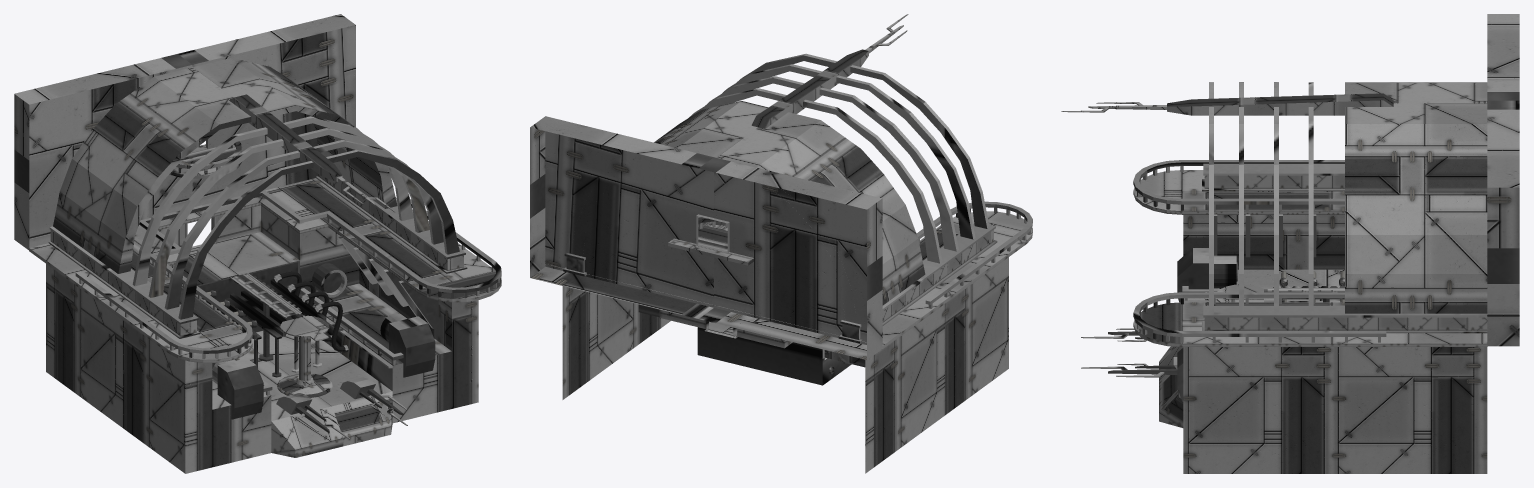
The model's file is Stat_mesh1.fbx.
3 renders of one model, left to right at view 1: azimuth 30°, elevation 25°; view 2: azimuth 150°, elevation 25°; view 3: azimuth 270°, elevation 25°, orthographic. The views are drawn at different scales.
Visible parts, largest first — view 1: stat; view 2: stat; view 3: stat.
Part boxes in pixels (x1=…): stat: x1=14, y1=14, x2=501, y2=473; stat: x1=530, y1=14, x2=1032, y2=473; stat: x1=1061, y1=14, x2=1519, y2=473.
Bounding box in the file's own units: 609 × 489 × 680.
